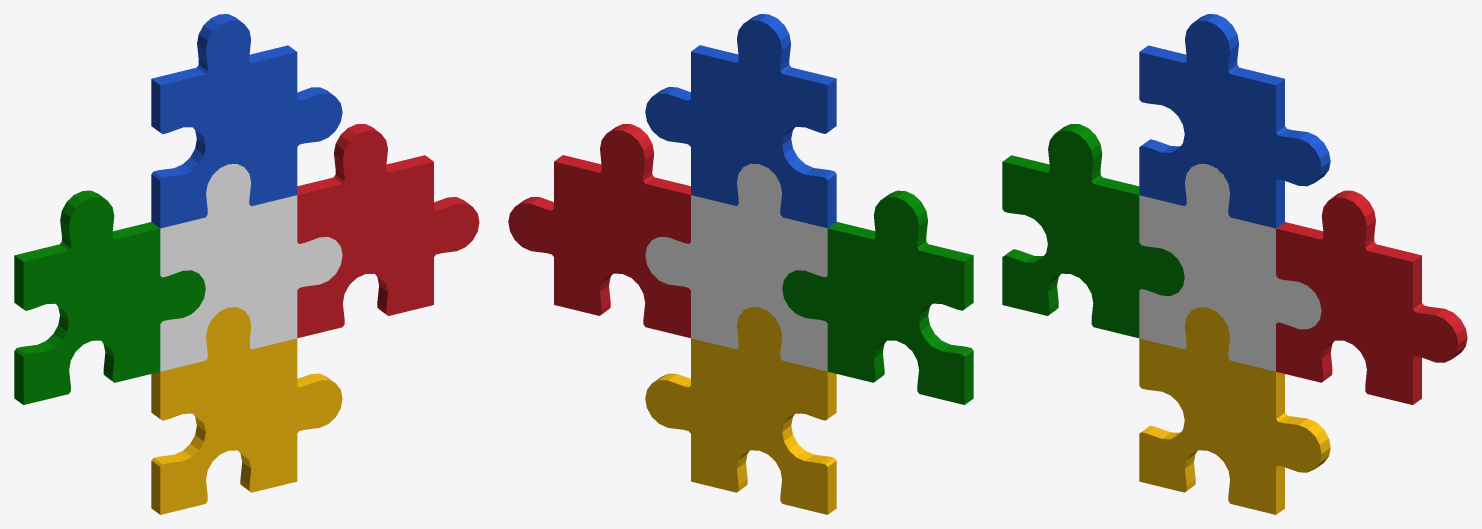
The picture shows the model from 3 angles, left to right: view 1: azimuth 30°, elevation 25°; view 2: azimuth 150°, elevation 25°; view 3: azimuth 330°, elevation 25°; orthographic projection.
Visible parts, largest first — view 1: Puzzle Piece 2, Puzzle Piece 4, Puzzle Piece 5, Puzzle Piece 3, Puzzle Piece 1; view 2: Puzzle Piece 2, Puzzle Piece 4, Puzzle Piece 5, Puzzle Piece 3, Puzzle Piece 1; view 3: Puzzle Piece 3, Puzzle Piece 4, Puzzle Piece 2, Puzzle Piece 5, Puzzle Piece 1.
Boxes of the visible parts, x1,y1,x2,y2 form: Puzzle Piece 2: (14,190,205,404); Puzzle Piece 4: (151,14,342,228); Puzzle Piece 5: (151,307,342,514); Puzzle Piece 3: (297,124,479,338); Puzzle Piece 1: (160,164,342,371); Puzzle Piece 2: (782,190,973,404); Puzzle Piece 4: (645,14,836,228); Puzzle Piece 5: (645,307,836,514); Puzzle Piece 3: (508,124,690,338); Puzzle Piece 1: (645,163,827,371); Puzzle Piece 3: (1276,190,1467,404); Puzzle Piece 4: (1139,14,1330,228); Puzzle Piece 2: (1002,124,1184,338); Puzzle Piece 5: (1139,307,1330,514); Puzzle Piece 1: (1139,164,1321,371).
Bounding box in the file's own units: 5 × 5 × 0.1712.
